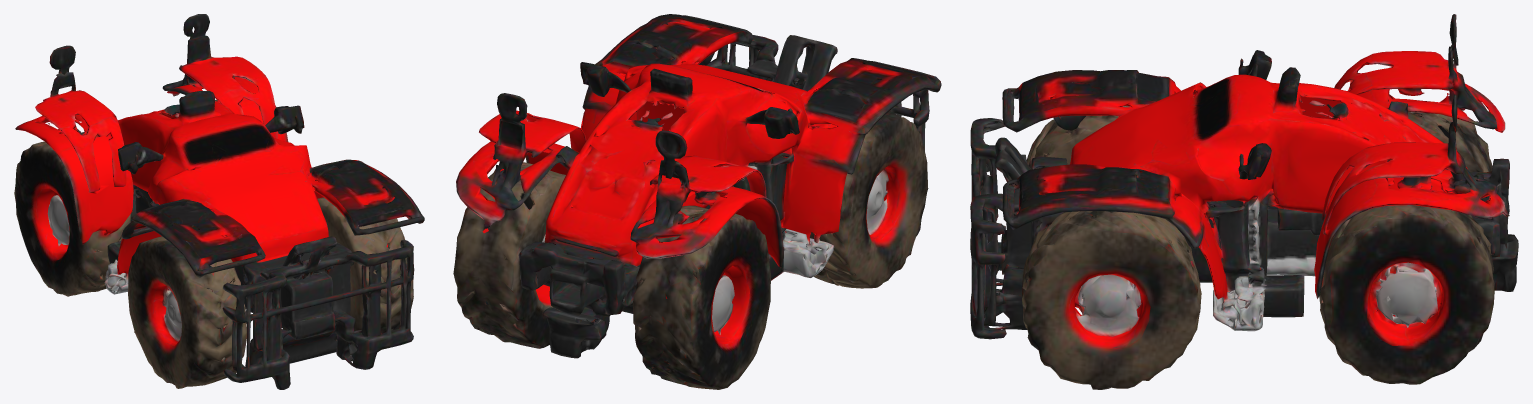
File: tractor_3.glb
3 renders of one model, left to right at view 1: azimuth 30°, elevation 25°; view 2: azimuth 150°, elevation 25°; view 3: azimuth 270°, elevation 25°, orthographic. The views are drawn at different scales.
Visible parts, largest first — view 1: world; view 2: world; view 3: world.
Boxes of the visible parts, bbox=[...] form: world: bbox=[14, 14, 424, 389]; world: bbox=[453, 14, 941, 389]; world: bbox=[970, 14, 1518, 389].
Size of the model in its own units: 0.592 by 0.5543 by 1.
Materials: 1 (1 with a texture image).
